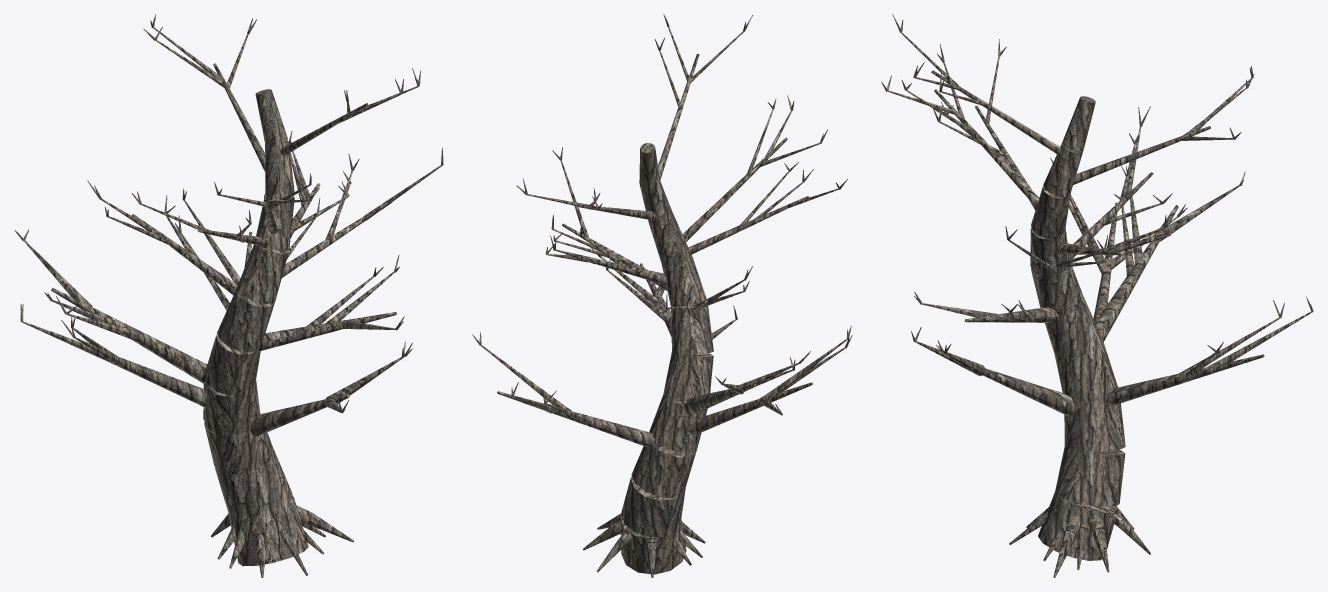
The model's file is spiral-twisted-v02.glb.
3 renders of one model, left to right at view 1: azimuth 30°, elevation 25°; view 2: azimuth 150°, elevation 25°; view 3: azimuth 270°, elevation 25°, orthographic. The views are drawn at different scales.
Parts seen in each view (by area): view 1: dead-tree-spiral; view 2: dead-tree-spiral; view 3: dead-tree-spiral.
Boxes of the visible parts, left/top/right/bottom form: dead-tree-spiral: left=14, top=14, right=443, bottom=577; dead-tree-spiral: left=472, top=14, right=852, bottom=577; dead-tree-spiral: left=881, top=14, right=1313, bottom=577.
Size of the model in its own units: 6.69 by 9.81 by 7.21.
1 material, 1 textured.
